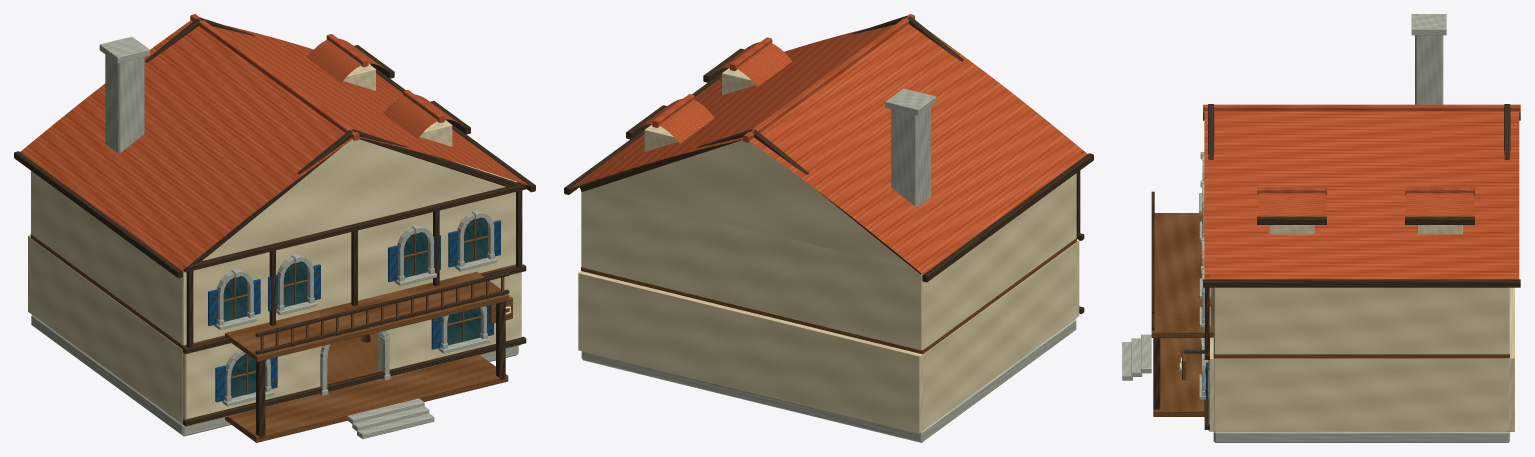
File: grand_harbor_tavern.glb
The picture shows the model from 3 angles, left to right: view 1: azimuth 30°, elevation 25°; view 2: azimuth 150°, elevation 25°; view 3: azimuth 270°, elevation 25°; orthographic projection. The views are drawn at different scales.
Visible parts, largest first — view 1: grand_harbor_tavern_Roof, grand_harbor_tavern_UpperFloor, grand_harbor_tavern_GroundFloor, grand_harbor_tavern_Porch, grand_harbor_tavern_Joinery, grand_harbor_tavern_Detail, grand_harbor_tavern_Glazing; view 2: grand_harbor_tavern_Roof, grand_harbor_tavern_UpperFloor, grand_harbor_tavern_GroundFloor; view 3: grand_harbor_tavern_Roof, grand_harbor_tavern_UpperFloor, grand_harbor_tavern_GroundFloor, grand_harbor_tavern_Porch, grand_harbor_tavern_Detail.
Boxes of the visible parts, left/top/right/bottom form: grand_harbor_tavern_Roof: left=14, top=14, right=535, bottom=278; grand_harbor_tavern_UpperFloor: left=30, top=64, right=522, bottom=361; grand_harbor_tavern_GroundFloor: left=28, top=235, right=521, bottom=436; grand_harbor_tavern_Porch: left=225, top=296, right=512, bottom=442; grand_harbor_tavern_Joinery: left=183, top=182, right=526, bottom=426; grand_harbor_tavern_Detail: left=214, top=210, right=497, bottom=406; grand_harbor_tavern_Glazing: left=223, top=217, right=487, bottom=397; grand_harbor_tavern_Roof: left=564, top=14, right=1093, bottom=282; grand_harbor_tavern_UpperFloor: left=581, top=68, right=1080, bottom=354; grand_harbor_tavern_GroundFloor: left=578, top=239, right=1079, bottom=442; grand_harbor_tavern_Roof: left=1203, top=14, right=1520, bottom=287; grand_harbor_tavern_UpperFloor: left=1151, top=191, right=1509, bottom=358; grand_harbor_tavern_GroundFloor: left=1208, top=287, right=1514, bottom=442; grand_harbor_tavern_Porch: left=1122, top=334, right=1204, bottom=416; grand_harbor_tavern_Detail: left=1199, top=152, right=1210, bottom=399.
Size of the model in its own units: 14.9 by 11.79 by 14.8.
3 materials, 3 textured.
